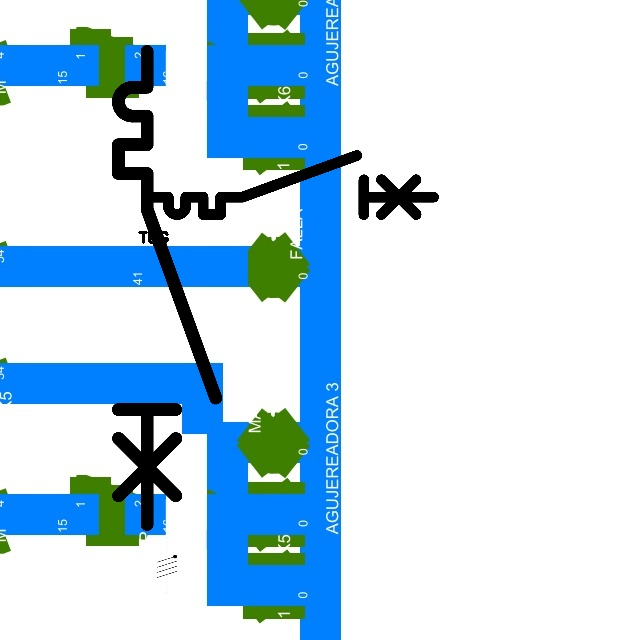interruptor_termomagnetico: (106, 39, 227, 536), (139, 148, 441, 222)
